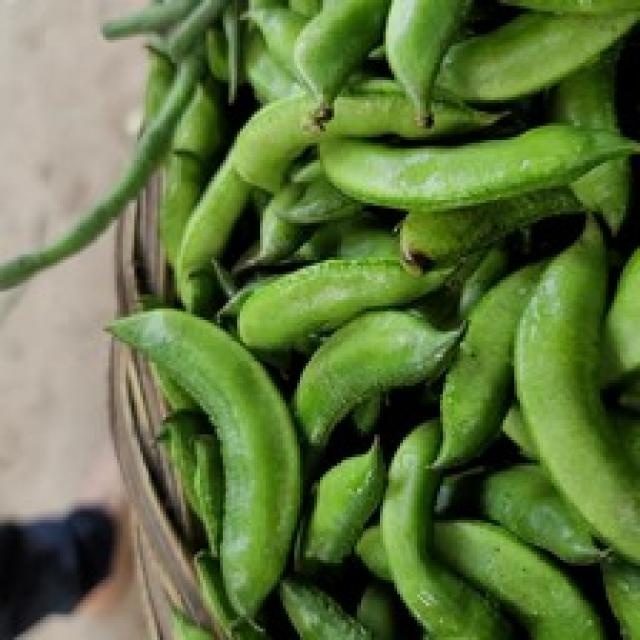Bean: (103, 0, 637, 637)
